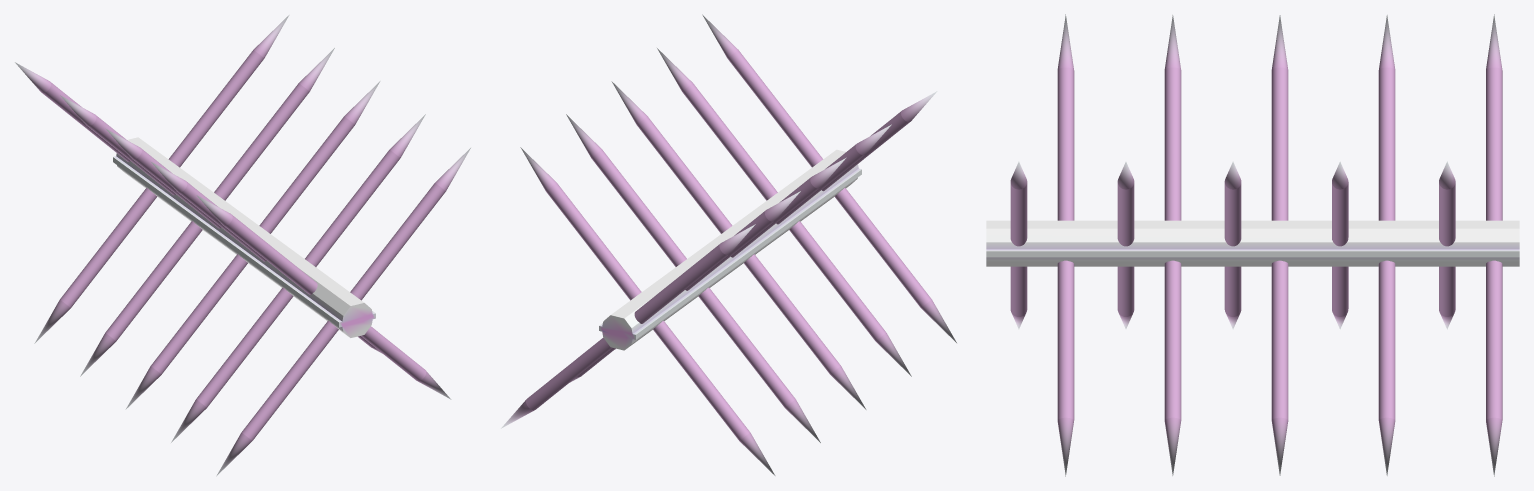
3 renders of one model, left to right at view 1: azimuth 30°, elevation 25°; view 2: azimuth 150°, elevation 25°; view 3: azimuth 270°, elevation 25°, orthographic. The views are drawn at different scales.
Parts seen in each view (by area): view 1: sleeve, pointed_rod.003, pointed_rod.002, pointed_rod.004, pointed_rod.005, pointed_rod.001, pointed_rod.006, pointed_rod.007, pointed_rod.009, pointed_rod.010, pointed_rod.008; view 2: sleeve, pointed_rod.003, pointed_rod.002, pointed_rod.005, pointed_rod.001, pointed_rod.004, pointed_rod.010, pointed_rod.009, pointed_rod.007, pointed_rod.006, pointed_rod.008; view 3: sleeve, pointed_rod.007, pointed_rod.008, pointed_rod.006, pointed_rod.009, pointed_rod.010, pointed_rod.001, pointed_rod.003, pointed_rod.002, pointed_rod.005, pointed_rod.004.
Part boxes in pixels (x1,y1,x2,y2): sleeve: (113, 137, 375, 337); pointed_rod.003: (125, 81, 380, 409); pointed_rod.002: (171, 114, 425, 442); pointed_rod.004: (80, 48, 334, 376); pointed_rod.005: (34, 15, 289, 343); pointed_rod.001: (216, 148, 470, 476); pointed_rod.006: (196, 195, 451, 399); pointed_rod.007: (151, 162, 382, 353); pointed_rod.009: (60, 95, 175, 195); pointed_rod.010: (15, 62, 129, 161); pointed_rod.008: (105, 128, 220, 228); sleeve: (599, 149, 861, 350); pointed_rod.003: (611, 81, 866, 409); pointed_rod.002: (657, 48, 911, 376); pointed_rod.005: (520, 147, 775, 475); pointed_rod.001: (702, 14, 956, 342); pointed_rod.004: (566, 114, 820, 442); pointed_rod.010: (501, 224, 755, 428); pointed_rod.009: (569, 191, 800, 382); pointed_rod.007: (776, 124, 891, 224); pointed_rod.006: (822, 91, 937, 191); pointed_rod.008: (615, 157, 846, 349); sleeve: (986, 220, 1519, 266); pointed_rod.007: (1164, 15, 1181, 475); pointed_rod.008: (1271, 15, 1288, 475); pointed_rod.006: (1057, 14, 1074, 476); pointed_rod.009: (1378, 15, 1395, 475); pointed_rod.010: (1486, 14, 1502, 476); pointed_rod.001: (1010, 161, 1027, 329); pointed_rod.003: (1224, 161, 1241, 329); pointed_rod.002: (1117, 162, 1134, 328); pointed_rod.005: (1439, 161, 1455, 329); pointed_rod.004: (1332, 161, 1348, 329).
Size of the model in its own units: 1.28 by 1.28 by 1.96.
